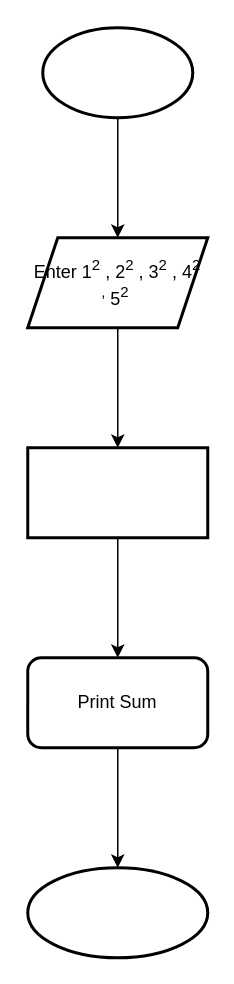
This 234x984 diagram has some shape labels left out. The centre of each missing label's shape, as x and y in pixels:
Start: (x=117, y=72)
Sum = 1 2 + 2 2 + 3 2 + 4 2 + 5 2: (x=117, y=492)
